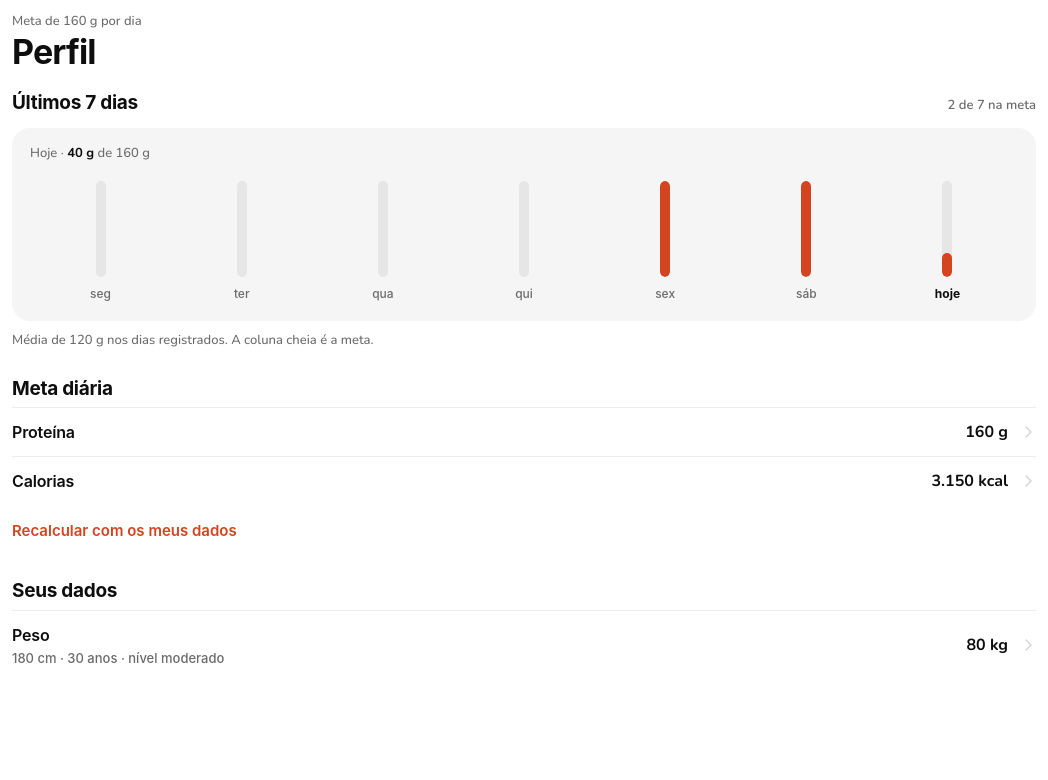
Test: PerfilView › gráfico tem 7 colunas com o valor de cada dia e o resumo '2 de 7 na meta'
The width and height of the screenshot is (1048, 780).
Check: the text "2 de 7 na meta" is shown, box top-left (948, 96), bottom-right (1036, 116)
Check: the text "Média de 120 g nos dias registrados." is shown, box top-left (12, 331), bottom-right (228, 349)
Click the button "sáb" at (806, 242), box top-left (736, 175), bottom-right (877, 309)
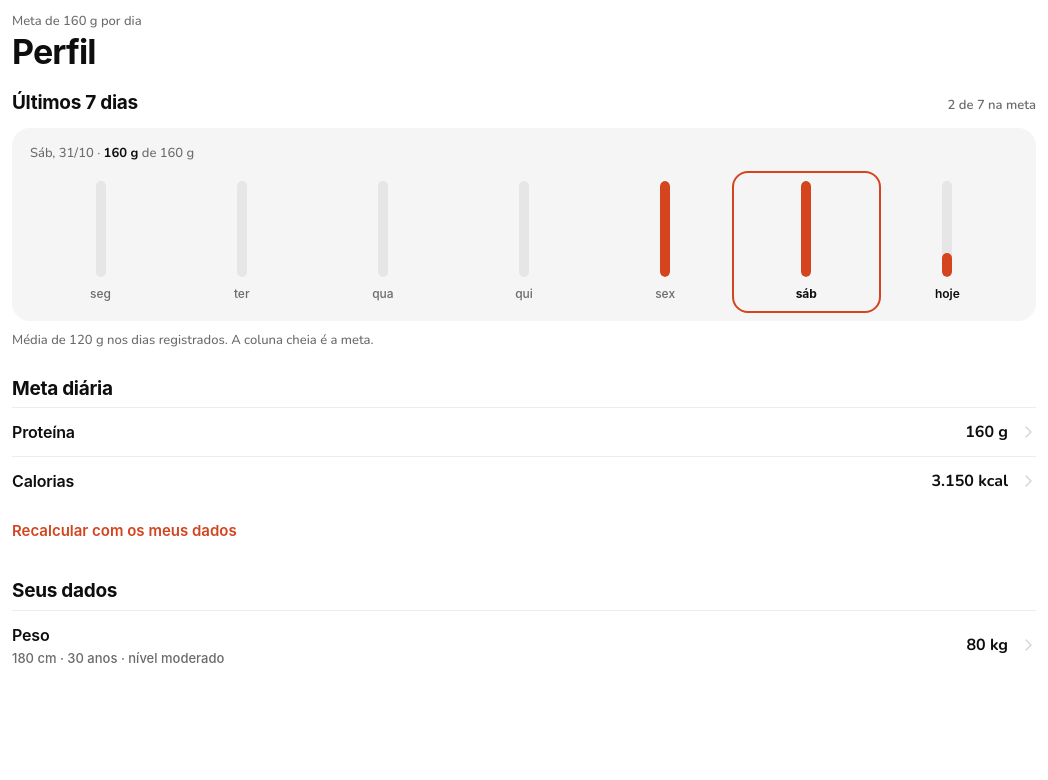
Check: the element with test id "week-readout" reads "Sáb, 31/10 · 160 g de 160 g", box top-left (30, 144), bottom-right (194, 162)
